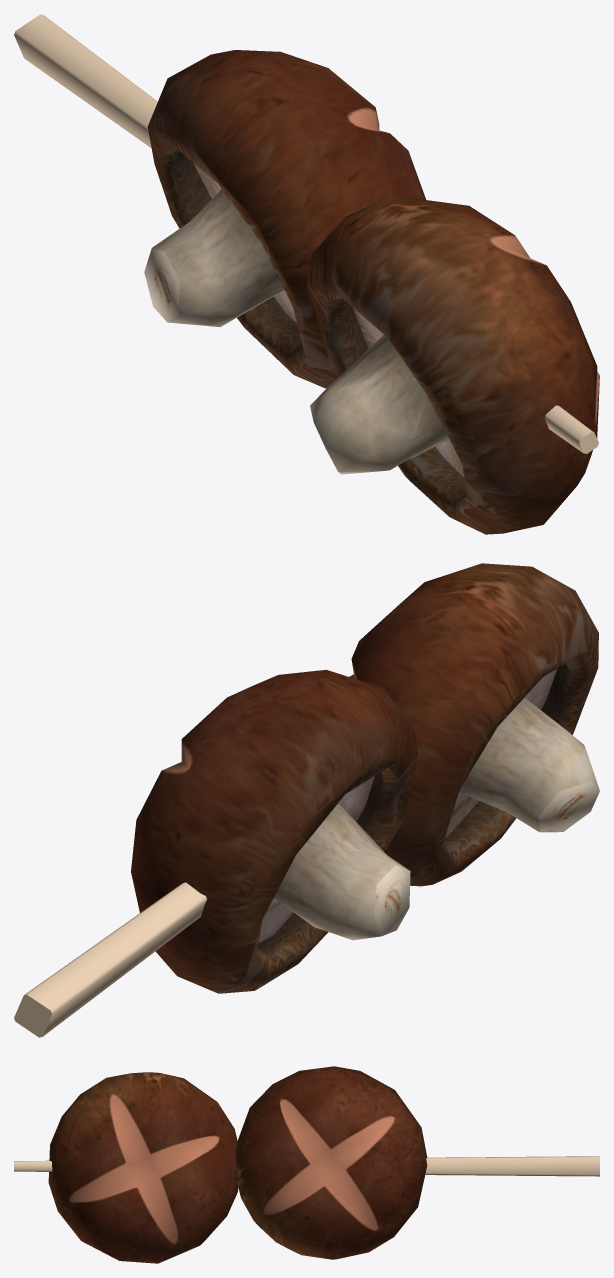
File: ref_bbqmushroom.fbx
The picture shows the model from 3 angles, top to bottom: view 1: azimuth 30°, elevation 25°; view 2: azimuth 150°, elevation 25°; view 3: azimuth 270°, elevation 25°; orthographic projection. The views are drawn at different scales.
Visible parts, largest first — view 1: ref_bbqmushroom_part1, ref_bbqmushroom_part0; view 2: ref_bbqmushroom_part1, ref_bbqmushroom_part0; view 3: ref_bbqmushroom_part1, ref_bbqmushroom_part0.
Boxes of the visible parts, left/top/right/bottom form: ref_bbqmushroom_part1: left=144, top=50, right=599, bottom=534; ref_bbqmushroom_part0: left=14, top=14, right=598, bottom=453; ref_bbqmushroom_part1: left=131, top=563, right=599, bottom=993; ref_bbqmushroom_part0: left=14, top=882, right=207, bottom=1037; ref_bbqmushroom_part1: left=48, top=1066, right=427, bottom=1263; ref_bbqmushroom_part0: left=14, top=1156, right=599, bottom=1176.
Size of the model in its own units: 28.07 by 33.05 by 100.
